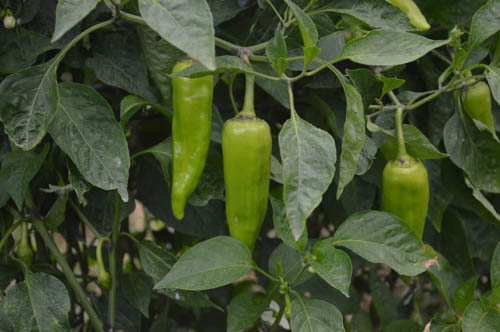ChiliPepper: (166, 62, 211, 221), (222, 119, 268, 252), (381, 165, 426, 242), (458, 87, 492, 126)
